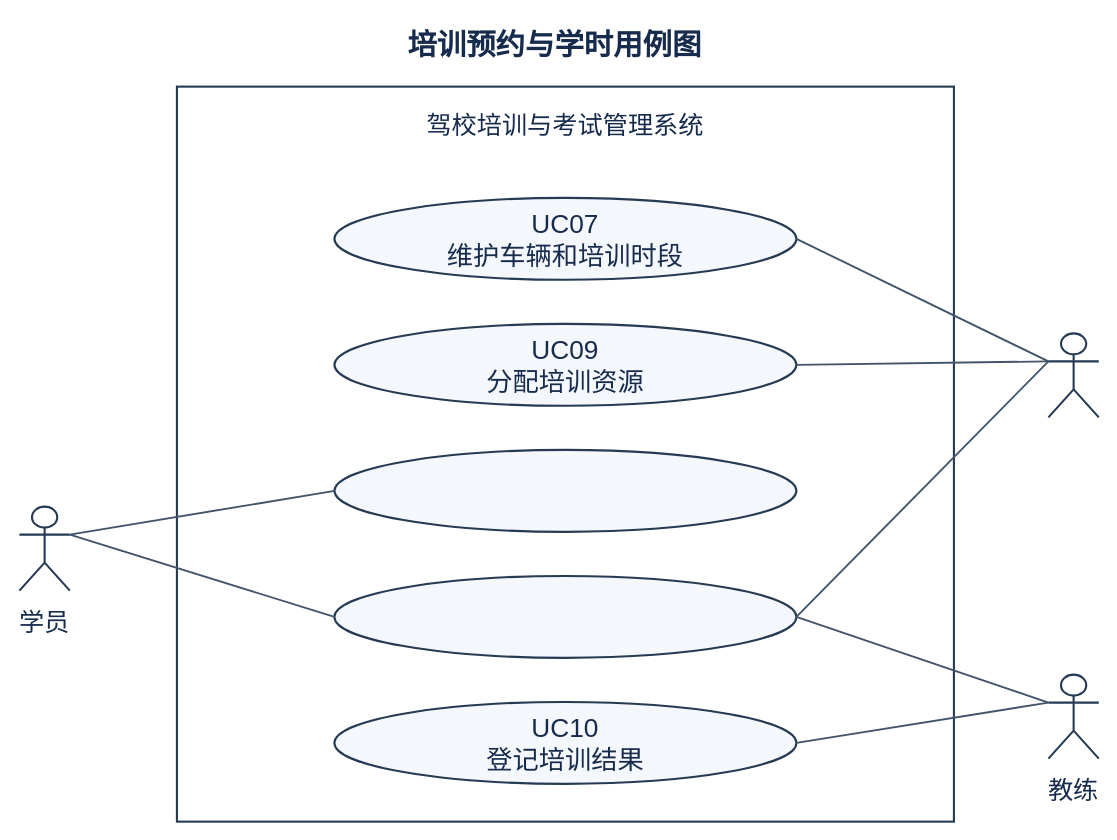
Some shapes in this 1117 by 840 pixel diagram are drawn without their labels. The shapes that lost their labels are listed below. From the top down, each one's centre as x and y in pixels, then its label:
At (1073,375): "教务".
At (565,490): "UC08 提交或取消预约".
At (565,616): "UC11 查询培训记录与学时".
